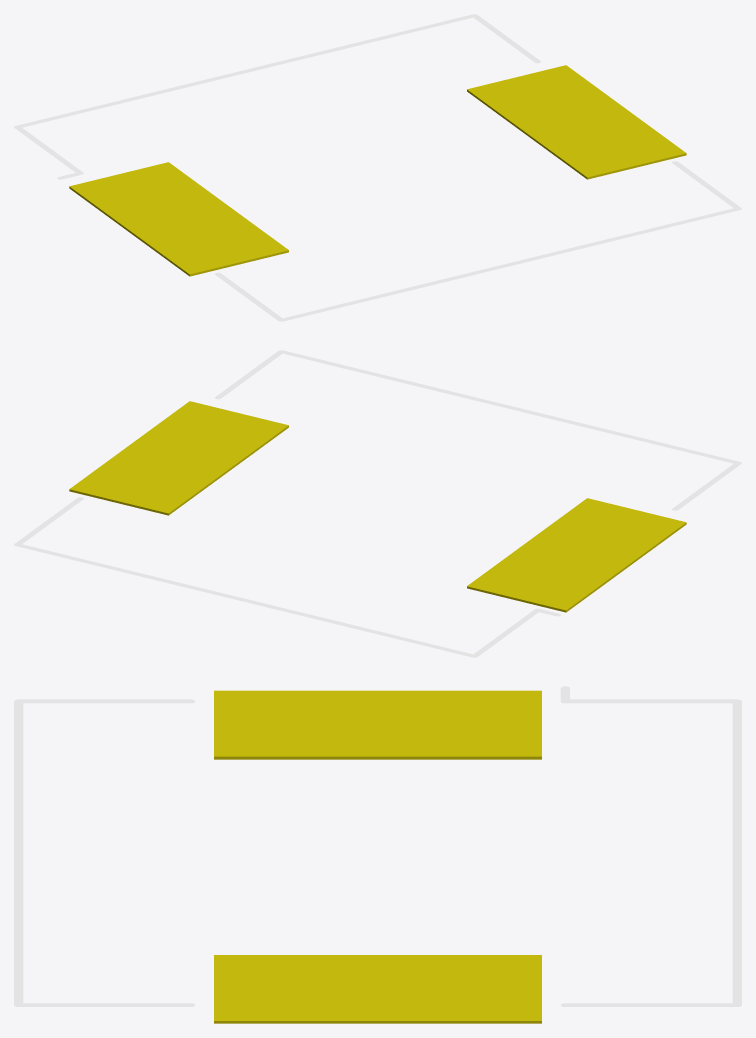
Rendered from Buzzer_Beeper__Buzzer_15x7.5RM7.6.glb.
3 renders of one model, top to bottom at view 1: azimuth 30°, elevation 25°; view 2: azimuth 150°, elevation 25°; view 3: azimuth 270°, elevation 25°, orthographic. The views are drawn at different scales.
Parts seen in each view (by area): view 1: Buzzer_Beeper__Buzzer_CUI_CPT-9019S-SMT_pad, Buzzer_Beeper__Buzzer_CUI_CPT-9019S-SMT_silkscreen; view 2: Buzzer_Beeper__Buzzer_CUI_CPT-9019S-SMT_pad, Buzzer_Beeper__Buzzer_CUI_CPT-9019S-SMT_silkscreen; view 3: Buzzer_Beeper__Buzzer_CUI_CPT-9019S-SMT_pad, Buzzer_Beeper__Buzzer_CUI_CPT-9019S-SMT_silkscreen.
Part boxes in pixels (x1=…): Buzzer_Beeper__Buzzer_CUI_CPT-9019S-SMT_pad: x1=69, y1=65, x2=686, y2=276; Buzzer_Beeper__Buzzer_CUI_CPT-9019S-SMT_silkscreen: x1=14, y1=14, x2=741, y2=321; Buzzer_Beeper__Buzzer_CUI_CPT-9019S-SMT_pad: x1=69, y1=401, x2=686, y2=612; Buzzer_Beeper__Buzzer_CUI_CPT-9019S-SMT_silkscreen: x1=14, y1=350, x2=741, y2=657; Buzzer_Beeper__Buzzer_CUI_CPT-9019S-SMT_pad: x1=214, y1=690, x2=541, y2=1023; Buzzer_Beeper__Buzzer_CUI_CPT-9019S-SMT_silkscreen: x1=14, y1=686, x2=741, y2=1006.
Bounding box in the file's own units: 0.0101 × 7.51e-05 × 0.00932.
